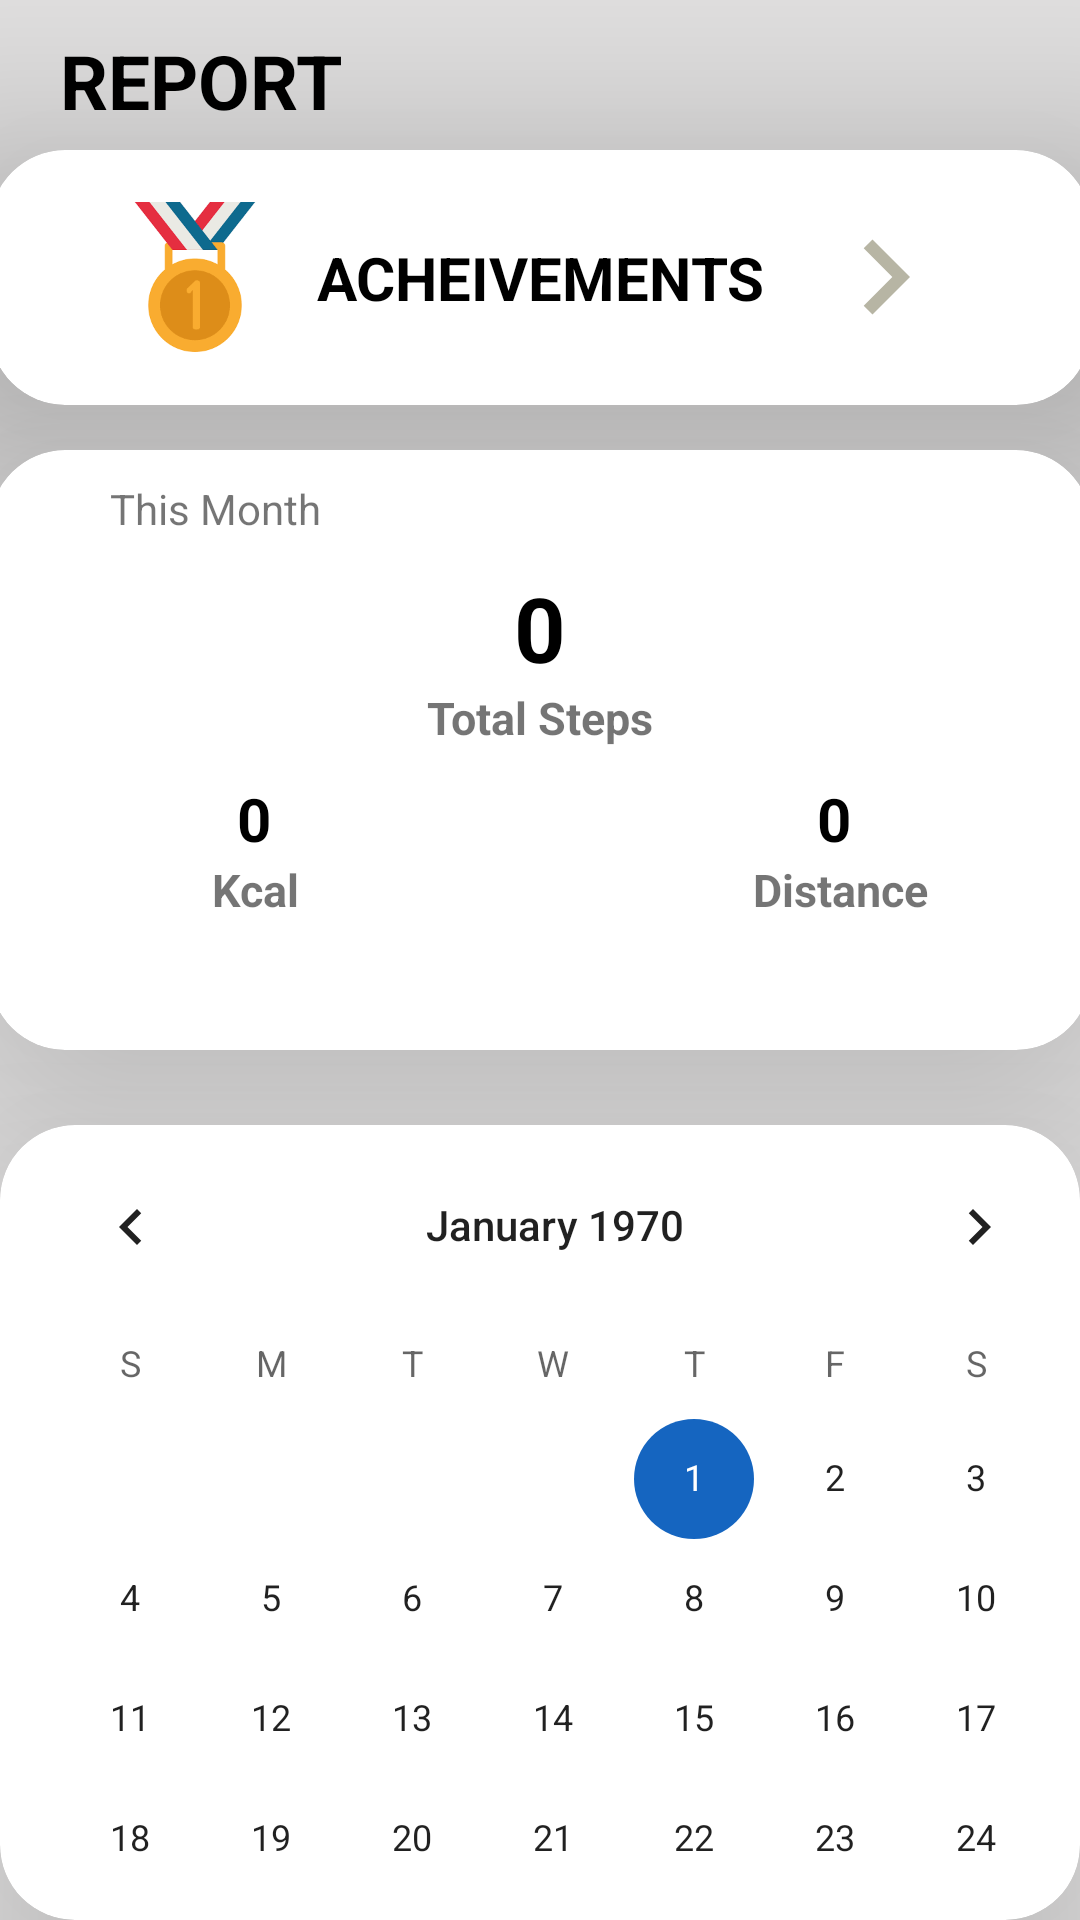

Where to tap for icons on this 1080w x 1920h app screen, as point (x, y):
medal: point (195, 277)
